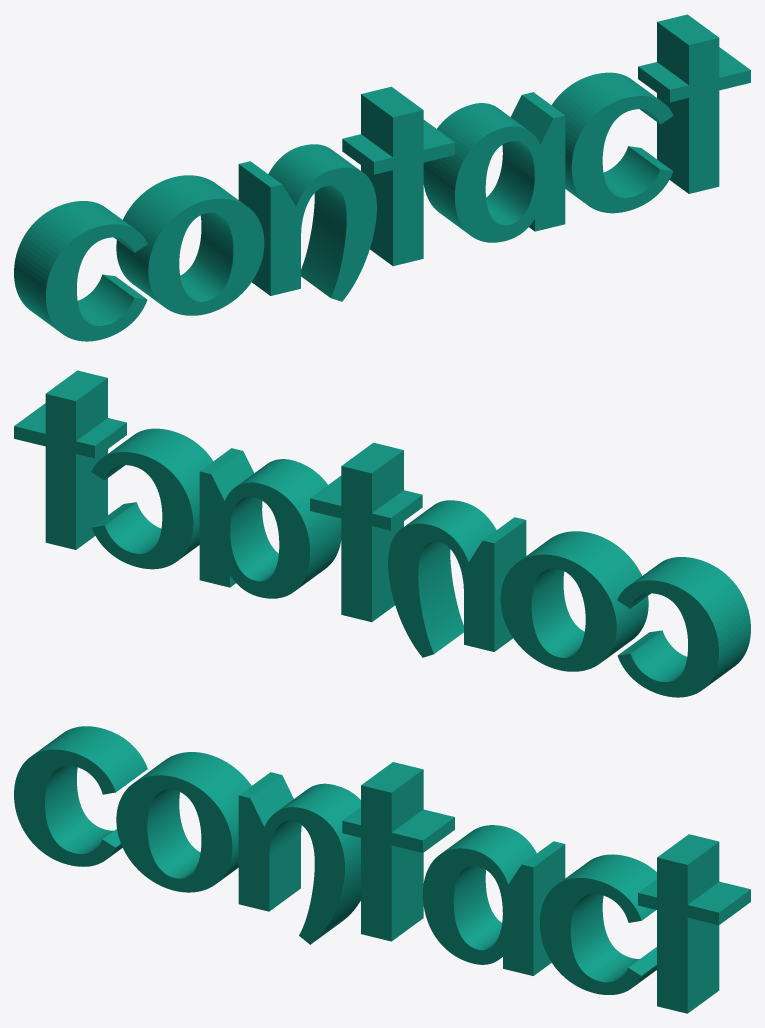
File: contact.gltf
3 renders of one model, top to bottom at view 1: azimuth 30°, elevation 25°; view 2: azimuth 150°, elevation 25°; view 3: azimuth 330°, elevation 25°, orthographic.
Visible parts, largest first — view 1: 3D Text - c (×2), 3D Text - t (×2), 3D Text - a, 3D Text - n, 3D Text - o; view 2: 3D Text - c (×2), 3D Text - t (×2), 3D Text - a, 3D Text - n, 3D Text - o; view 3: 3D Text - t (×2), 3D Text - c (×2), 3D Text - a, 3D Text - n, 3D Text - o.
Boxes of the visible parts, x1=… form: 3D Text - c (×2): x1=14, y1=72, x2=673, y2=341; 3D Text - t (×2): x1=342, y1=14, x2=750, y2=266; 3D Text - a: x1=423, y1=92, x2=565, y2=242; 3D Text - n: x1=238, y1=144, x2=376, y2=301; 3D Text - o: x1=116, y1=175, x2=264, y2=315; 3D Text - c (×2): x1=91, y1=428, x2=750, y2=697; 3D Text - t (×2): x1=14, y1=370, x2=422, y2=622; 3D Text - a: x1=199, y1=448, x2=341, y2=598; 3D Text - n: x1=388, y1=500, x2=526, y2=657; 3D Text - o: x1=500, y1=531, x2=648, y2=671; 3D Text - t (×2): x1=342, y1=762, x2=750, y2=1013; 3D Text - c (×2): x1=14, y1=726, x2=656, y2=994; 3D Text - a: x1=423, y1=825, x2=565, y2=975; 3D Text - n: x1=238, y1=772, x2=360, y2=944; 3D Text - o: x1=116, y1=752, x2=251, y2=892.
Bounding box in the file's own units: 0.1912 × 0.0446 × 0.015.
